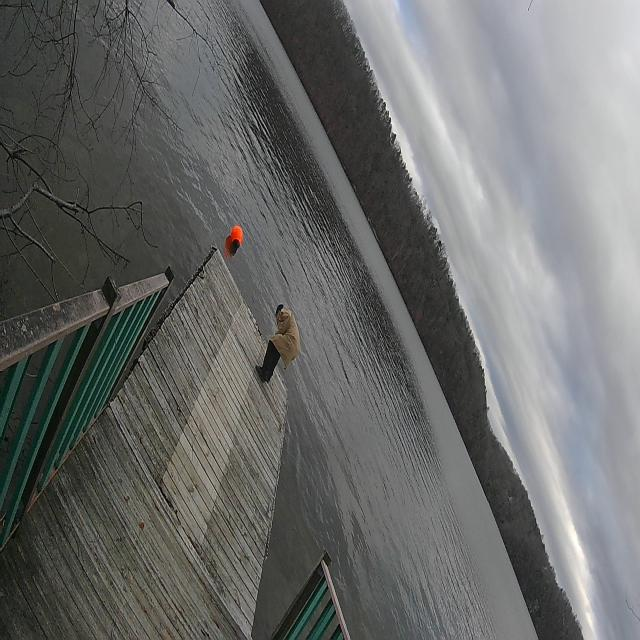Buoy: (228, 220, 245, 256)
